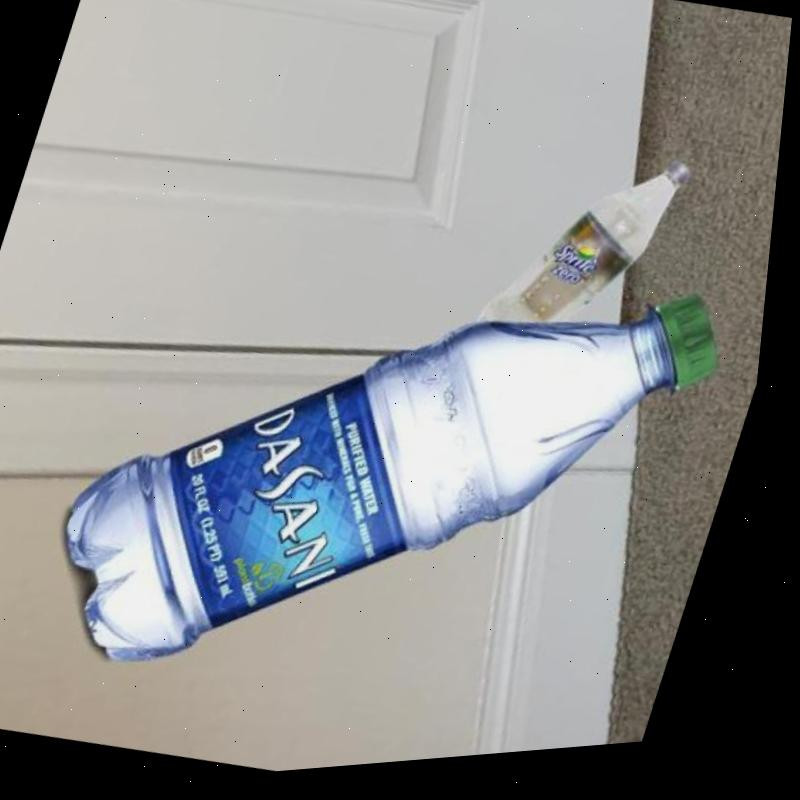botella: (23, 179, 752, 783), (474, 135, 703, 377)
